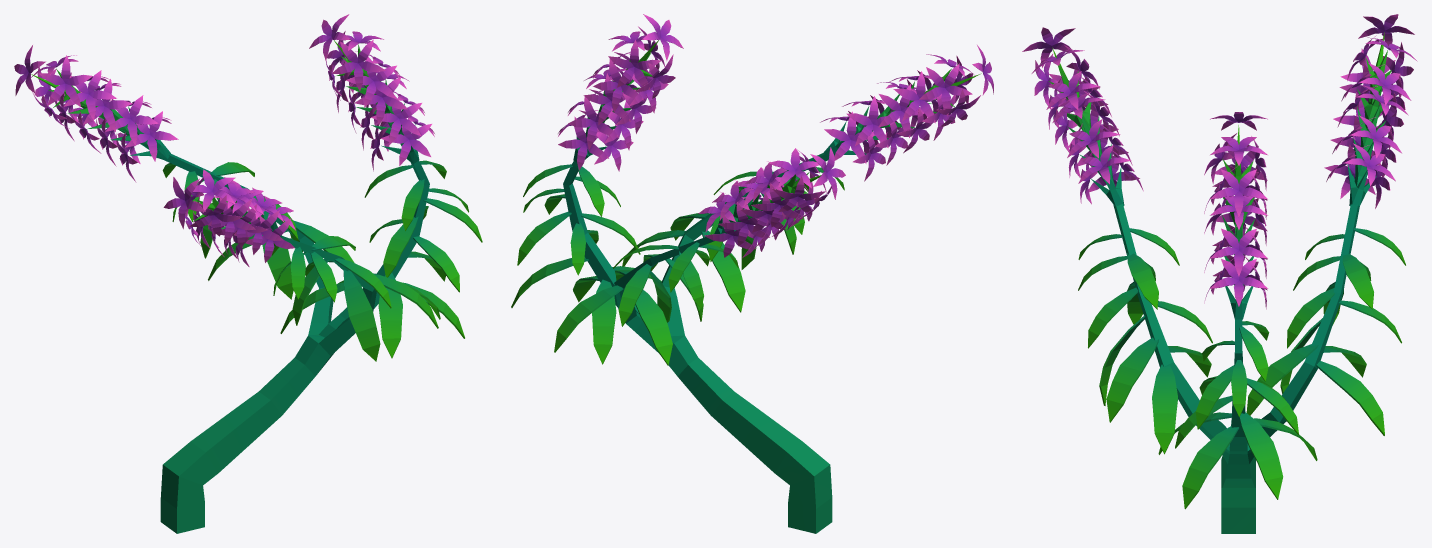
Rendered from ExpulsionFlowerGameReady.fbx.
3 renders of one model, left to right at view 1: azimuth 30°, elevation 25°; view 2: azimuth 150°, elevation 25°; view 3: azimuth 270°, elevation 25°, orthographic. The views are drawn at different scales.
Visible parts, largest first — view 1: Plane, Plane.018, Plane.022, Stalk.003, Flower.075, Flower.033, Plane.033, Plane.001, Flower.080, Flower.067, Plane.004, Flower.038 (+23 smaller); view 2: Plane, Plane.036, Plane.021, Plane.034, Plane.024, Flower.053, Plane.029, Flower.032, Flower.058, Stalk.002, Flower.062, Flower.045 (+20 smaller); view 3: Plane, Stalk.003, Plane.019, Plane.008, Plane.025, Plane.009, Plane.034, Stalk.002, Plane.037, Stalk.001, Flower.039, Flower.035 (+25 smaller).
Part boxes in pixels (x1,y1,x2,y2): Plane: (160,154,429,533); Plane.018: (343,269,380,361); Plane.022: (378,272,402,358); Stalk.003: (31,68,170,159); Flower.075: (38,55,92,107); Flower.033: (332,39,385,91); Plane.033: (262,211,293,299); Plane.001: (383,216,418,277); Flower.080: (105,95,158,145); Flower.067: (125,111,178,161); Plane.004: (413,236,459,292); Flower.038: (371,95,421,144); Plane: (563,152,832,533); Plane.036: (635,290,672,365); Plane.021: (592,279,616,364); Plane.034: (554,285,623,352); Plane.024: (701,230,745,312); Flower.053: (919,63,972,116); Plane.029: (618,264,651,326); Flower.032: (608,39,661,90); Flower.058: (846,96,899,147); Stalk.002: (824,68,981,158); Flower.062: (893,71,941,123); Flower.045: (824,111,874,163); Plane: (1113,203,1359,533); Stalk.003: (1347,32,1391,206); Plane.019: (1152,364,1177,454); Plane.008: (1239,412,1283,499); Plane.025: (1106,337,1158,422); Plane.009: (1182,426,1238,509); Plane.034: (1316,361,1384,435); Stalk.002: (1049,47,1124,206); Plane.037: (1246,344,1318,415); Stalk.001: (1222,125,1255,319); Flower.039: (1210,169,1267,217); Flower.035: (1210,228,1267,276).
Bounding box in the file's own units: 119 × 140 × 99.83.
